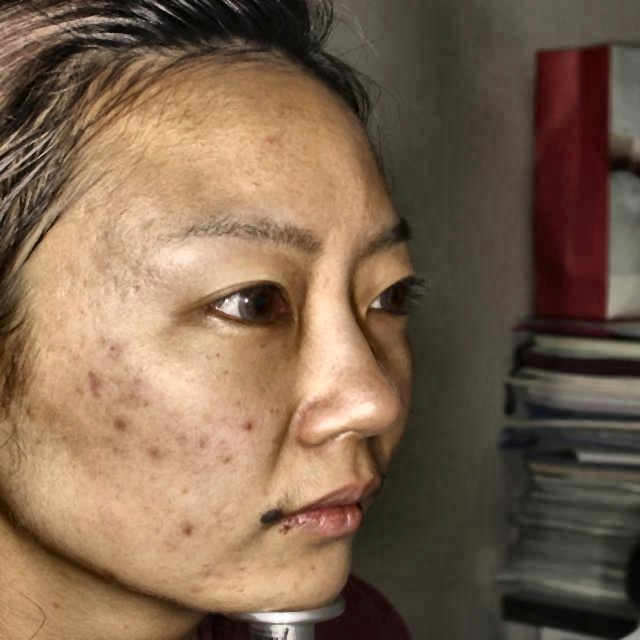comedone: (186, 564, 221, 603), (183, 515, 205, 546), (106, 407, 126, 434)
